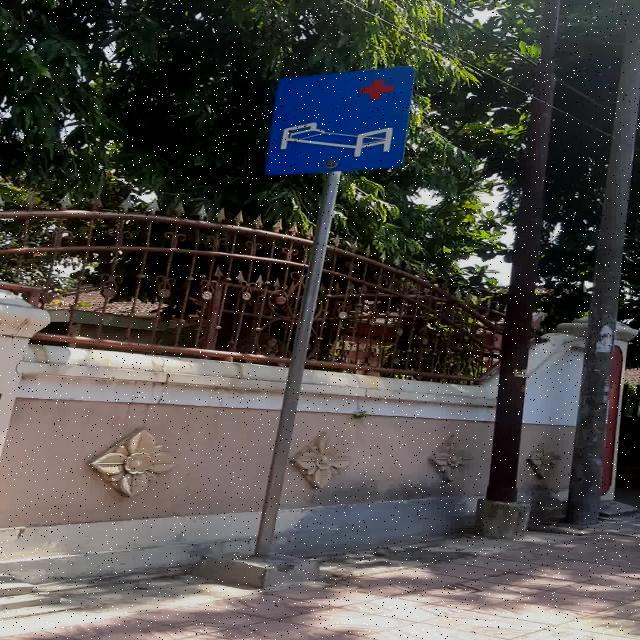Rumah Sakit: (266, 66, 414, 176)
